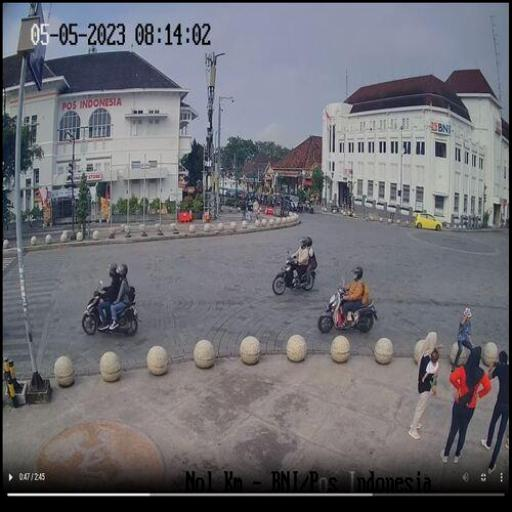motor: (317, 275, 379, 334), (82, 280, 142, 338), (272, 249, 318, 297)
